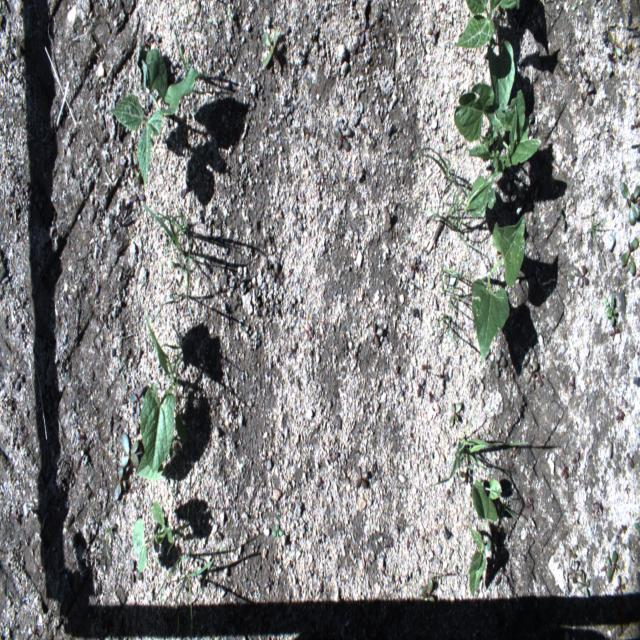crop: (455, 82, 542, 232), (110, 42, 198, 186), (473, 213, 530, 363), (135, 316, 179, 483), (453, 2, 519, 110), (468, 464, 506, 599), (130, 497, 178, 571)
weed: (140, 202, 197, 304), (442, 432, 525, 488), (170, 557, 210, 631), (111, 424, 141, 502), (440, 270, 469, 346), (416, 206, 464, 243), (419, 144, 464, 178), (568, 551, 593, 605), (590, 208, 609, 272), (257, 26, 281, 76), (446, 382, 466, 432), (521, 352, 545, 392), (606, 24, 628, 66), (576, 67, 596, 109), (620, 231, 637, 279), (604, 550, 622, 590), (620, 183, 637, 223), (605, 294, 621, 336), (354, 461, 371, 499), (559, 455, 575, 495), (365, 317, 384, 350), (427, 17, 446, 46), (572, 266, 590, 296), (419, 578, 438, 606), (492, 349, 508, 382), (615, 570, 628, 610), (356, 21, 372, 53), (336, 126, 354, 153), (565, 369, 582, 397), (407, 251, 423, 280), (414, 366, 426, 404), (270, 517, 285, 547), (590, 495, 606, 520), (291, 206, 306, 230), (274, 256, 283, 292), (619, 395, 627, 424), (574, 451, 582, 478), (440, 365, 450, 383), (624, 450, 634, 468), (632, 520, 638, 536)
